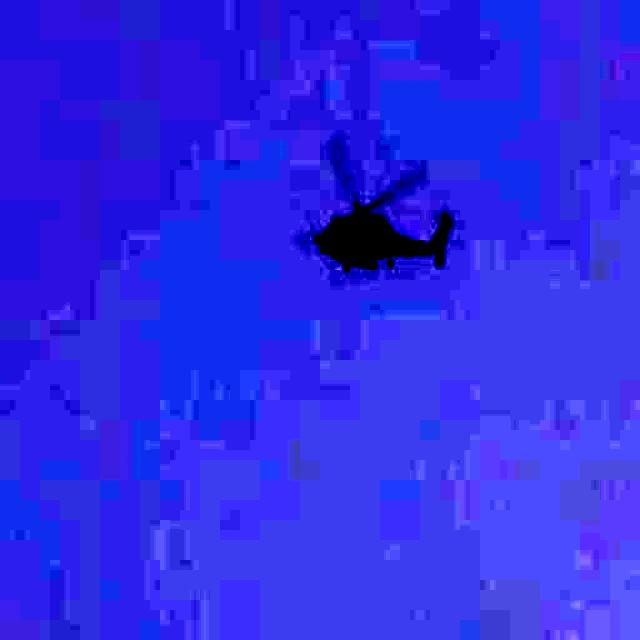drone: (299, 135, 462, 321)
